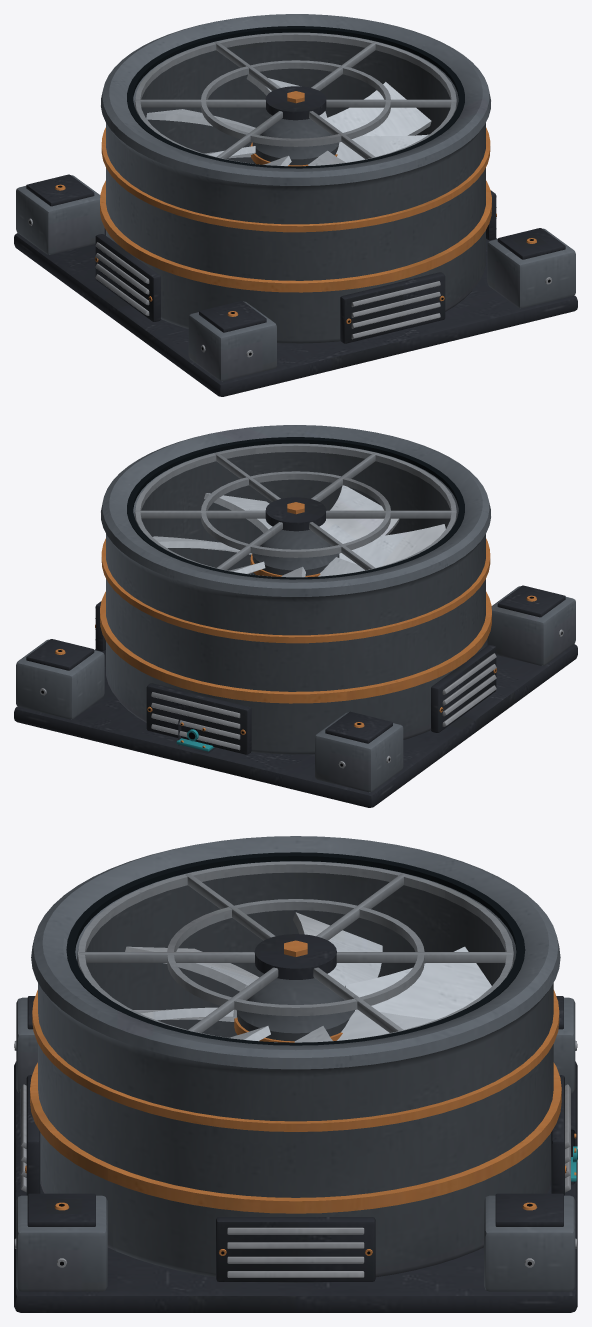
The model's file is hover_jet.glb.
3 renders of one model, top to bottom at view 1: azimuth 30°, elevation 25°; view 2: azimuth 150°, elevation 25°; view 3: azimuth 270°, elevation 25°, orthographic. The views are drawn at different scales.
Visible parts, largest first — view 1: Duct, Fan; view 2: Duct, Fan; view 3: Duct, Fan.
Boxes of the visible parts, x1=… form: Duct: x1=14, y1=14, x2=577, y2=396; Fan: x1=146, y1=74, x2=431, y2=166; Duct: x1=14, y1=425, x2=577, y2=807; Fan: x1=153, y1=485, x2=445, y2=577; Duct: x1=14, y1=836, x2=577, y2=1312; Fan: x1=125, y1=912, x2=491, y2=1042.
Size of the model in its own units: 0.494 by 0.245 by 0.4942.
Materials: 12 (8 with a texture image).
